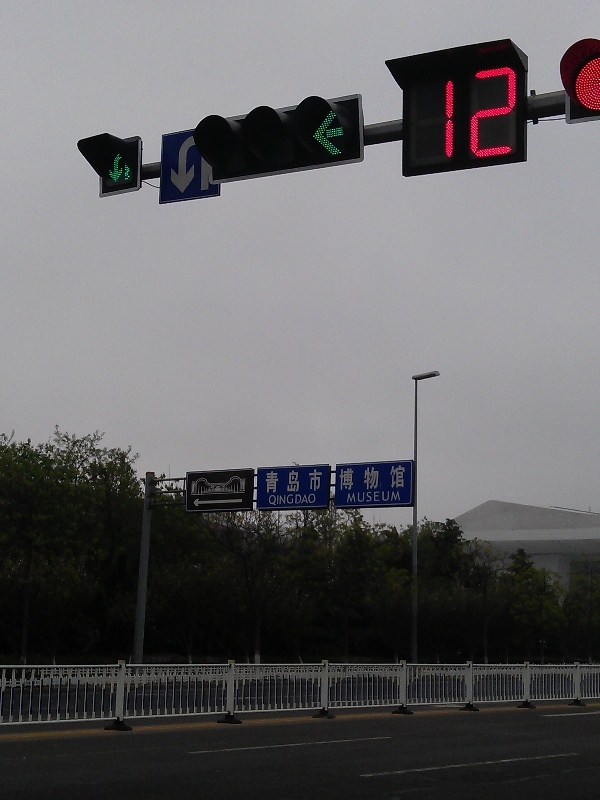text: (449, 62, 464, 165), (465, 62, 480, 165), (481, 62, 496, 165), (497, 62, 512, 165), (443, 62, 448, 165), (353, 464, 368, 493), (369, 464, 384, 493), (385, 464, 400, 493), (513, 62, 517, 165), (339, 464, 352, 493), (273, 468, 288, 493), (289, 468, 304, 493), (305, 468, 320, 493), (385, 490, 401, 503), (401, 464, 408, 493), (353, 490, 368, 503), (369, 490, 384, 503), (273, 494, 288, 506), (265, 468, 272, 493), (305, 494, 317, 505), (295, 494, 304, 505), (289, 494, 294, 506), (348, 490, 352, 503), (321, 468, 323, 493), (268, 494, 272, 506)
